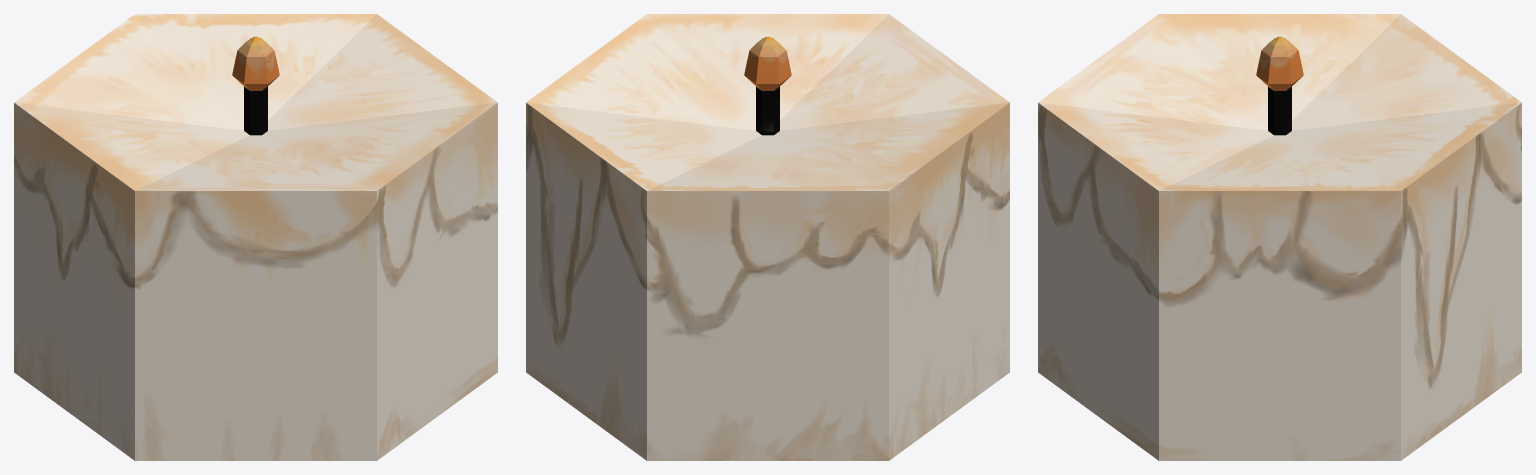
File: Candle1.fbx
3 views of the same model, side by side, from view 1: azimuth 30°, elevation 25°; view 2: azimuth 150°, elevation 25°; view 3: azimuth 270°, elevation 25° (orthographic).
Visible parts, largest first — view 1: Cylinder.003; view 2: Cylinder.003; view 3: Cylinder.003.
Part boxes in pixels (left/top/right/bottom): Cylinder.003: left=14, top=14, right=497, bottom=460; Cylinder.003: left=526, top=14, right=1009, bottom=460; Cylinder.003: left=1038, top=14, right=1521, bottom=460.
Size of the model in its own units: 239 by 211 by 276.
